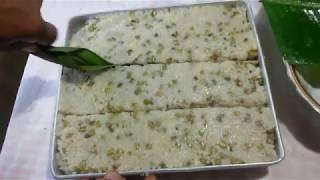kiribath: (54, 2, 279, 177)
